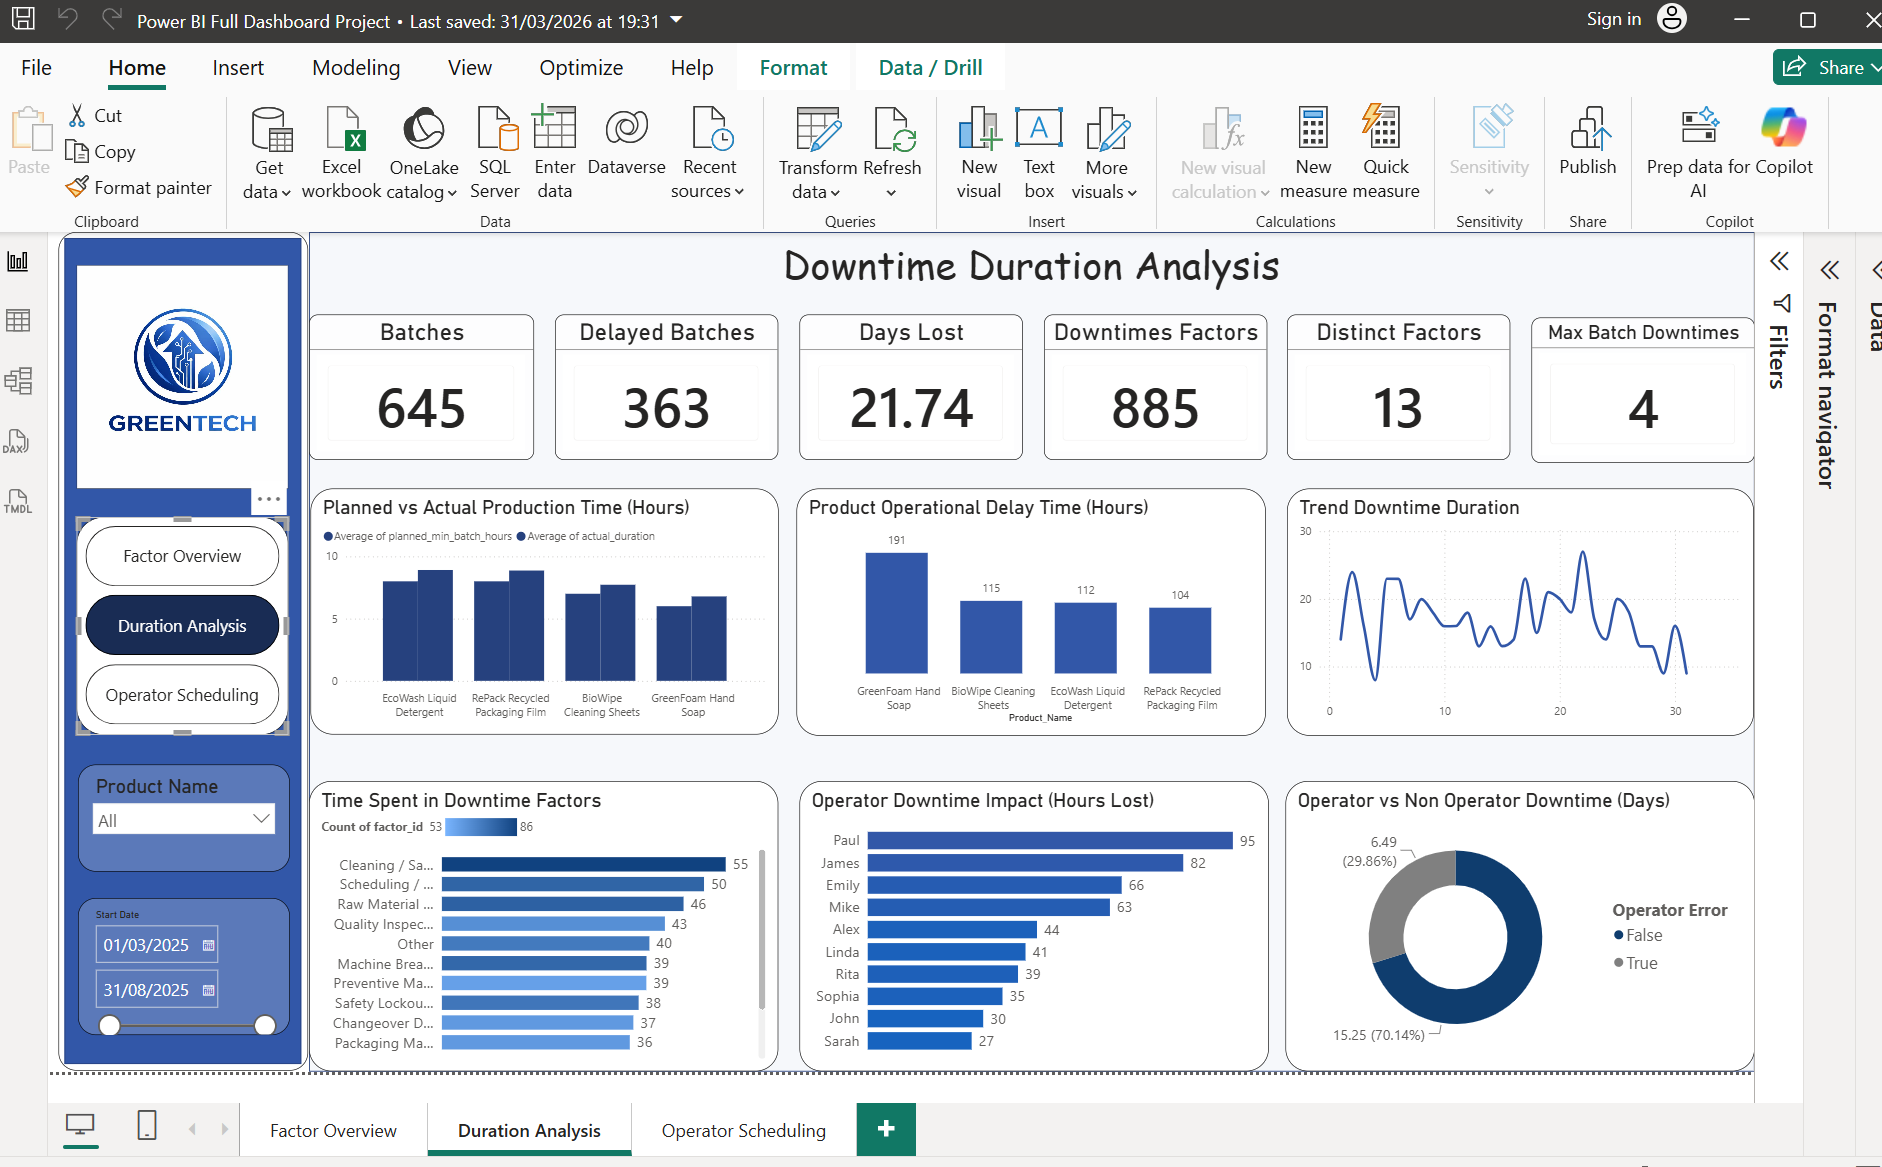

This screenshot's page, from the dashboard's own definition file:
{"tool":"powerbi","page":{"name":"Duration Analysis","canvas":[1900,936],"ordinal":1},"visuals":[{"type":"shape","box":[290.6,0,1610.2,935.2],"z":0},{"type":"textbox","box":[289.9,0,1609.3,71.9],"z":1000},{"type":"cardVisual","title":"Batches","fields":{"Data":["CountNonNull(batch_pd.batch_id)"]},"box":[290.6,92.2,250.8,161.7],"z":2000},{"type":"cardVisual","title":"Delayed Batches","fields":{"Data":["Count(downtimes.Batch_ID)"]},"box":[564.8,92.2,248.4,161.7],"z":3000},{"type":"cardVisual","title":"Days Lost","fields":{"Data":["Sum(downtimes.Days)"]},"box":[836.7,92.2,248.4,161.7],"z":4000},{"type":"cardVisual","title":"Distinct Factors","fields":{"Data":["Count(downtimes.factor_id)"]},"box":[1380.5,92.2,248.4,161.7],"z":5000},{"type":"cardVisual","title":"Max Batch Downtimes","fields":{"Data":["downtimes.Max downtime per batch"]},"box":[1651.6,94.6,248.4,161.7],"z":6000},{"type":"cardVisual","title":"Downtimes Factors","fields":{"Data":["CountNonNull(downtimes.factor_id)"]},"box":[1108.6,92.2,248.4,161.7],"z":7000},{"type":"clusteredColumnChart","title":"Planned vs Actual Production Time (Hours)","fields":{"Category":["products.Product_Name"],"Y":["Avg(batch_pd.planned_min_batch_hours)","Avg(batch_pd.actual_duration)"]},"box":[292.2,285.5,521.5,274.2],"z":8000},{"type":"columnChart","title":"Product Operational Delay Time (Hours)","fields":{"Category":["products.Product_Name"],"Y":["Sum(downtimes.Hours)"]},"box":[833.5,285.1,522.7,275],"z":9000},{"type":"lineChart","title":"Trend Downtime Duration","fields":{"Category":["batch_pd.start_date.Variation.Date Hierarchy.Year","batch_pd.start_date.Variation.Date Hierarchy.Quarter","batch_pd.start_date.Variation.Date Hierarchy.Month","batch_pd.start_date.Variation.Date Hierarchy.Day"],"Y":["Sum(downtimes.Hours)"]},"box":[1379.6,285.1,520.3,275],"z":10000},{"type":"barChart","title":"Time Spent in Downtime Factors","fields":{"Category":["downtime_factors.Factor_Name"],"Y":["Sum(downtimes.Hours)"]},"box":[290.6,611.7,522.7,323.4],"z":11000},{"type":"barChart","title":"Operator Downtime Impact (Hours Lost)","fields":{"Category":["batch_pd.operator"],"Y":["Sum(downtimes.Hours)"]},"box":[836.7,611.7,522.7,323.4],"z":12000},{"type":"donutChart","title":"Operator vs Non Operator Downtime (Days)","fields":{"Category":["downtime_factors.Operator_Error"],"Y":["Sum(downtimes.Days)"]},"box":[1378.1,611.7,522.7,323.4],"z":13000},{"type":"shape","box":[11.2,0,277.7,934.1],"z":14000},{"type":"slicer","fields":{"Values":["products.Product_Name"]},"box":[33.7,593.4,236,119.1],"z":15000},{"type":"slicer","fields":{"Values":["batch_pd.start_date"]},"box":[33.7,741.7,236,152.8],"z":16000},{"type":"image","box":[31.5,36,236,249.5],"z":17000},{"type":"pageNavigator","box":[31.5,316.9,236,242.7],"z":18000}]}

Visuals, with their boxes on the page's 1900x936 design canvas (x1, y1, x2, y2). These are canvas units, not pixel positions in the 1882x1167 screenshot, which may show the page scaled, cropped or inside an application window:
shape: BBox(291, 0, 1901, 935)
textbox: BBox(290, 0, 1899, 72)
"Batches" cardVisual: BBox(291, 92, 541, 254)
"Delayed Batches" cardVisual: BBox(565, 92, 813, 254)
"Days Lost" cardVisual: BBox(837, 92, 1085, 254)
"Distinct Factors" cardVisual: BBox(1380, 92, 1629, 254)
"Max Batch Downtimes" cardVisual: BBox(1652, 95, 1900, 256)
"Downtimes Factors" cardVisual: BBox(1109, 92, 1357, 254)
"Planned vs Actual Production Time (Hours)" clusteredColumnChart: BBox(292, 286, 814, 560)
"Product Operational Delay Time (Hours)" columnChart: BBox(834, 285, 1356, 560)
"Trend Downtime Duration" lineChart: BBox(1380, 285, 1900, 560)
"Time Spent in Downtime Factors" barChart: BBox(291, 612, 813, 935)
"Operator Downtime Impact (Hours Lost)" barChart: BBox(837, 612, 1359, 935)
"Operator vs Non Operator Downtime (Days)" donutChart: BBox(1378, 612, 1901, 935)
shape: BBox(11, 0, 289, 934)
slicer - products.Product_Name: BBox(34, 593, 270, 712)
slicer - batch_pd.start_date: BBox(34, 742, 270, 894)
image: BBox(32, 36, 268, 286)
pageNavigator: BBox(32, 317, 268, 560)
